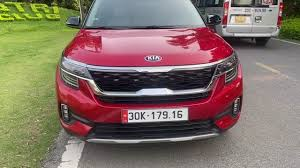Bien-so: (122, 107, 189, 123)
